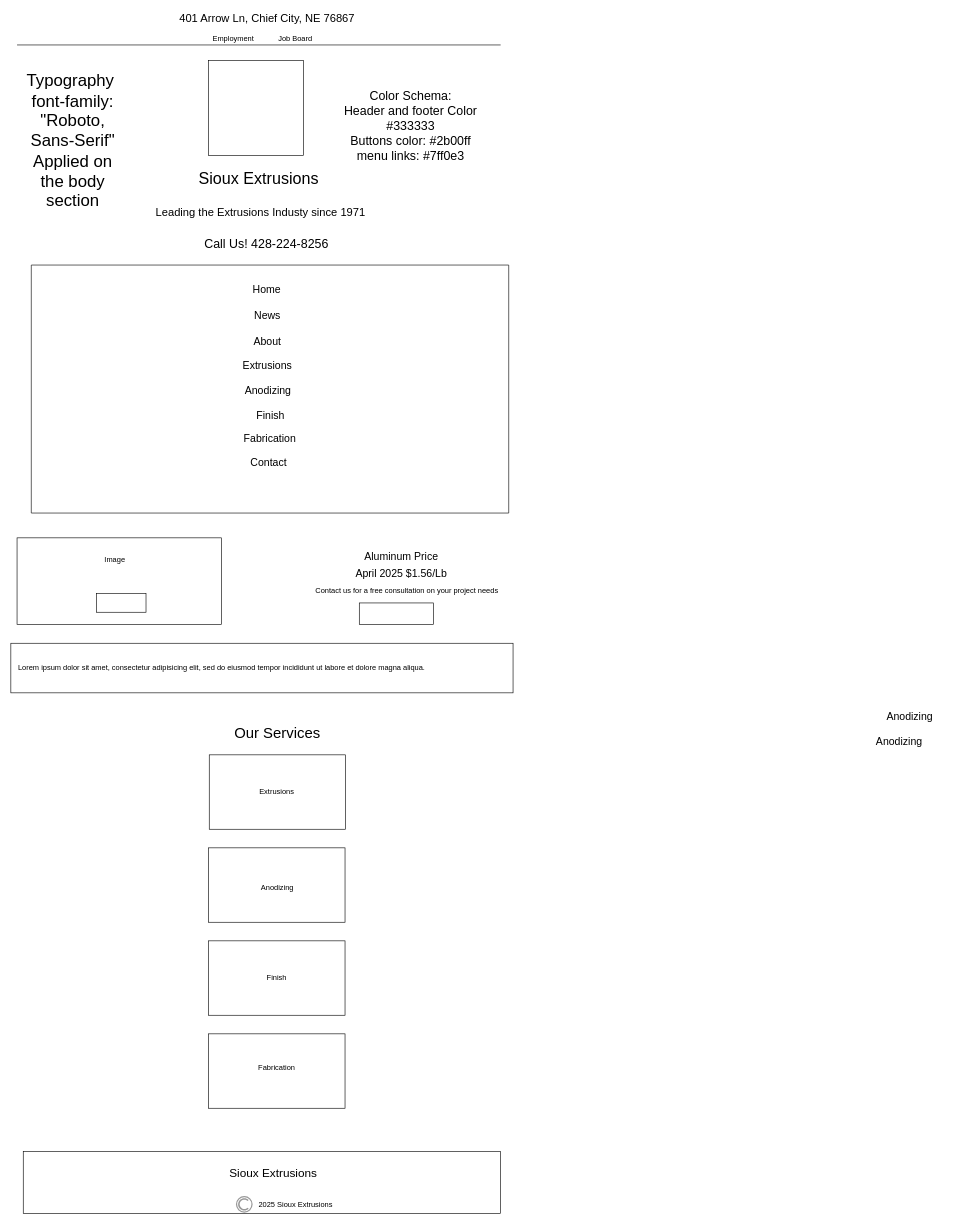
Some shapes in this 958 by 1225 pixel diagram are drawn without their labels. Each missing label, with the centre of its shape:
"Company Logo" goes at point (255, 107).
"More Info" goes at point (121, 602).
"Request a quote" goes at point (396, 613).
